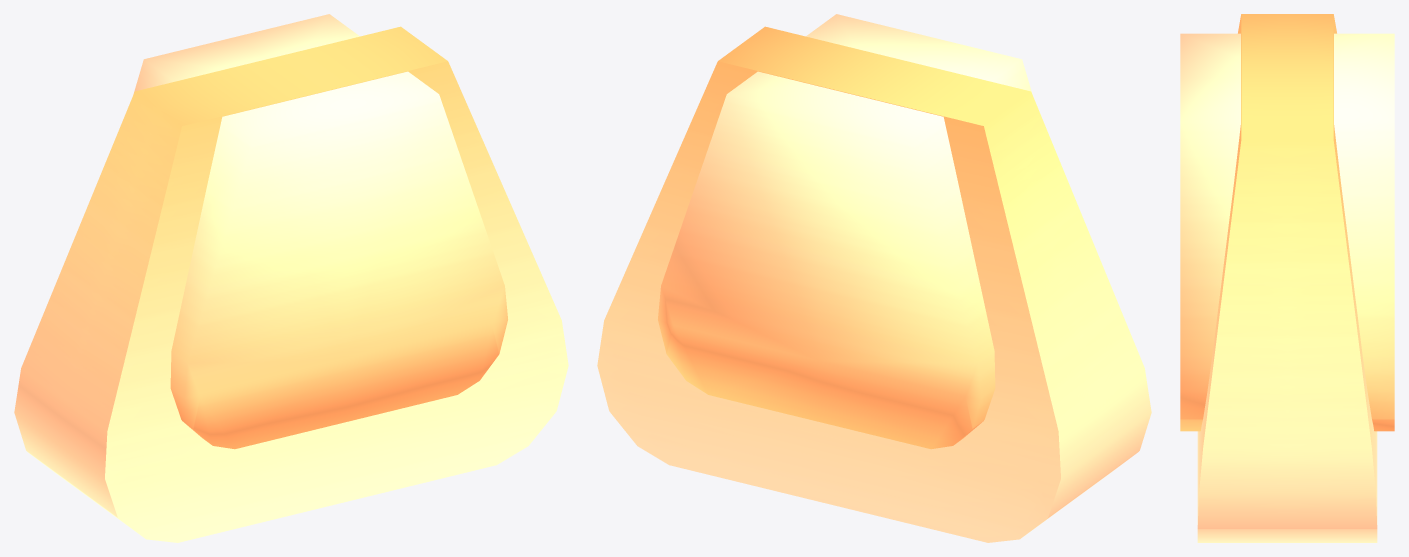
The model's file is wood_pommel_143_004.glb.
3 renders of one model, left to right at view 1: azimuth 30°, elevation 25°; view 2: azimuth 150°, elevation 25°; view 3: azimuth 270°, elevation 25°, orthographic. The views are drawn at different scales.
Visible parts, largest first — view 1: wood_pommel_143.004; view 2: wood_pommel_143.004; view 3: wood_pommel_143.004.
Part boxes in pixels (box(x1,y1,x2,y2)): wood_pommel_143.004: box(14, 14, 568, 542); wood_pommel_143.004: box(597, 14, 1151, 542); wood_pommel_143.004: box(1180, 14, 1394, 542).
Bounding box in the file's own units: 2.35 × 1.9 × 0.961.
Materials: 1 (1 with a texture image).
